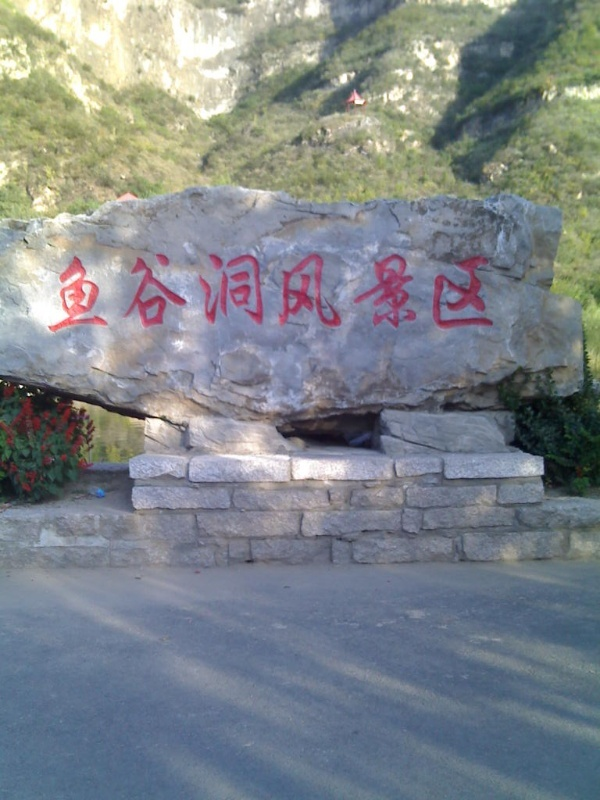text: (49, 251, 64, 333), (65, 251, 80, 333), (81, 251, 96, 333), (97, 251, 112, 333), (113, 251, 128, 333), (129, 251, 144, 333), (145, 251, 160, 333), (161, 251, 176, 333), (177, 251, 192, 333), (193, 251, 208, 333), (209, 251, 224, 333), (225, 251, 240, 333), (241, 251, 256, 333), (257, 251, 272, 333), (273, 251, 288, 333), (289, 251, 304, 333), (305, 251, 320, 333), (321, 251, 336, 333), (337, 251, 352, 333), (353, 251, 368, 333), (369, 251, 384, 333), (385, 251, 400, 333), (401, 251, 416, 333), (417, 251, 432, 333), (433, 251, 448, 333), (449, 251, 464, 333), (465, 251, 480, 333), (481, 251, 496, 333), (497, 251, 500, 333), (47, 251, 48, 333)
